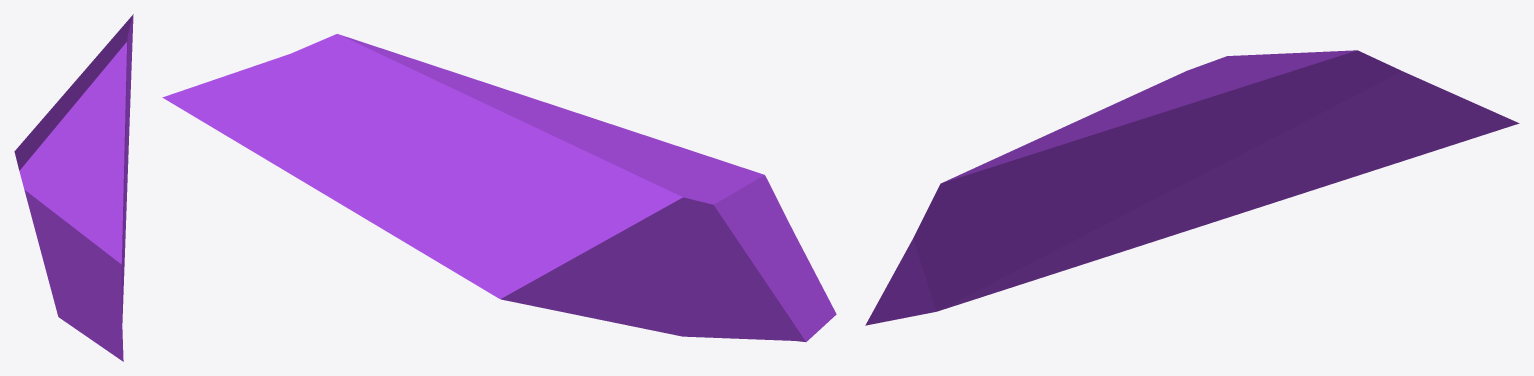
The model's file is Glass_101_2_2_chunks.fbx.
3 views of the same model, side by side, from view 1: azimuth 30°, elevation 25°; view 2: azimuth 150°, elevation 25°; view 3: azimuth 270°, elevation 25° (orthographic). The views are drawn at different scales.
Visible parts, largest first — view 1: Glass_101_2_2_0; view 2: Glass_101_2_2_0; view 3: Glass_101_2_2_0.
Part boxes in pixels (x1,y1,x2,y2): Glass_101_2_2_0: [14, 14, 133, 361]; Glass_101_2_2_0: [162, 34, 836, 341]; Glass_101_2_2_0: [865, 50, 1519, 325].
Bounding box in the file's own units: 177 × 170 × 252.
